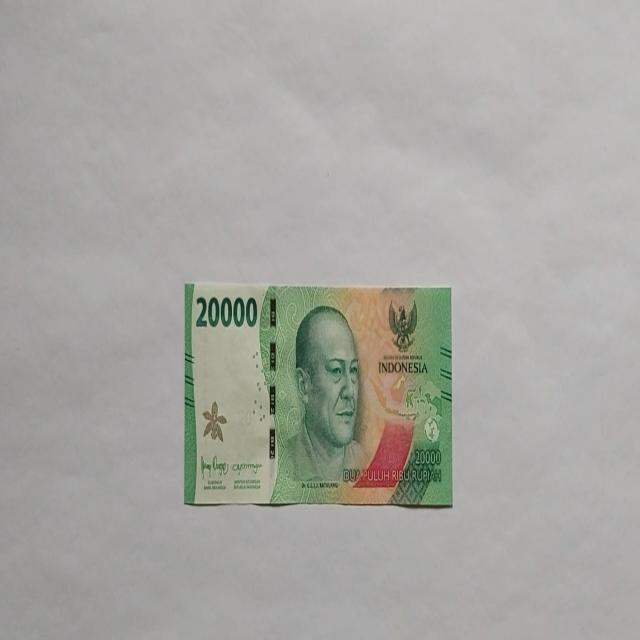dua puluh ribu rupiah: (183, 280, 453, 508)
